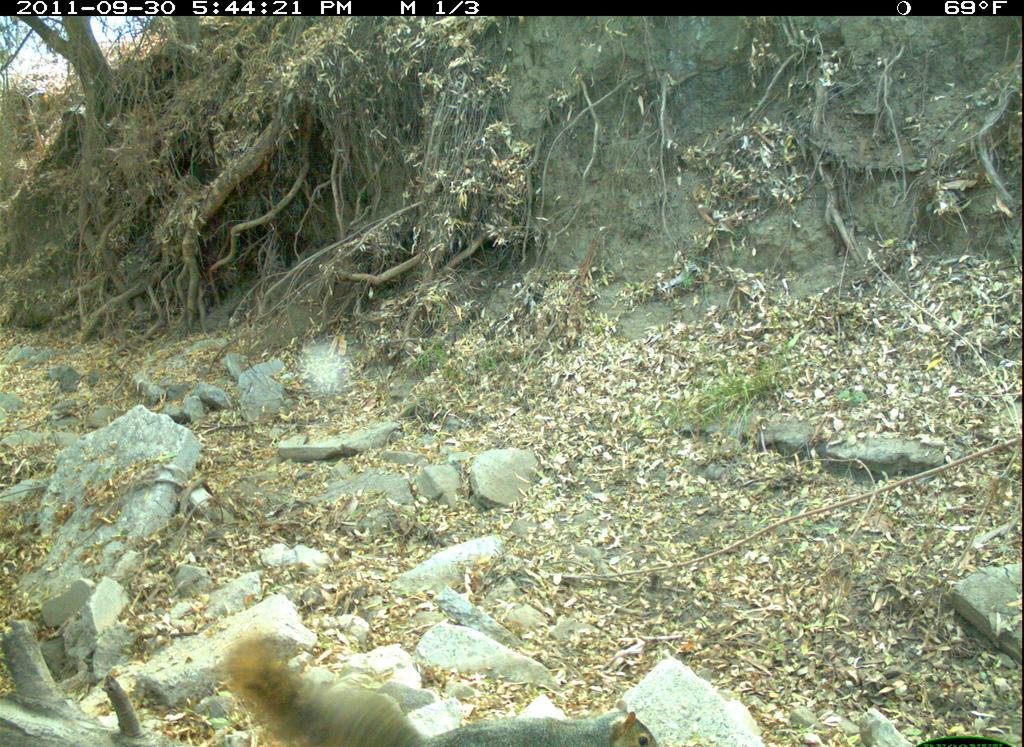squirrel: (198, 614, 424, 746)
